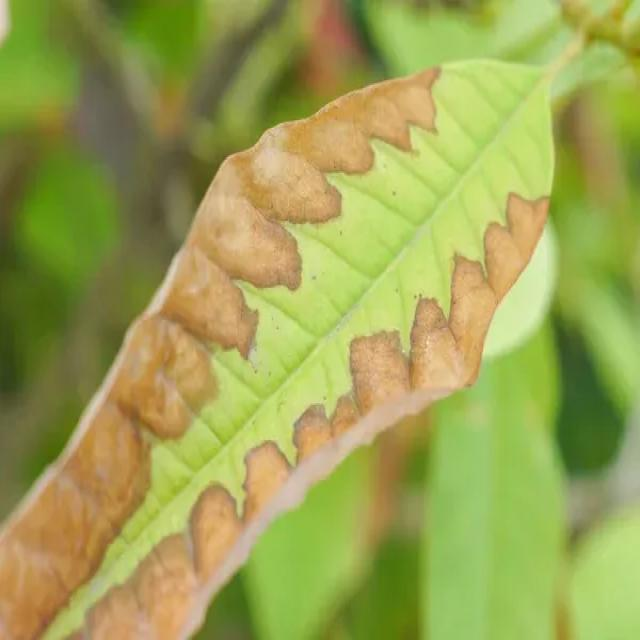blight: (0, 78, 436, 639)
